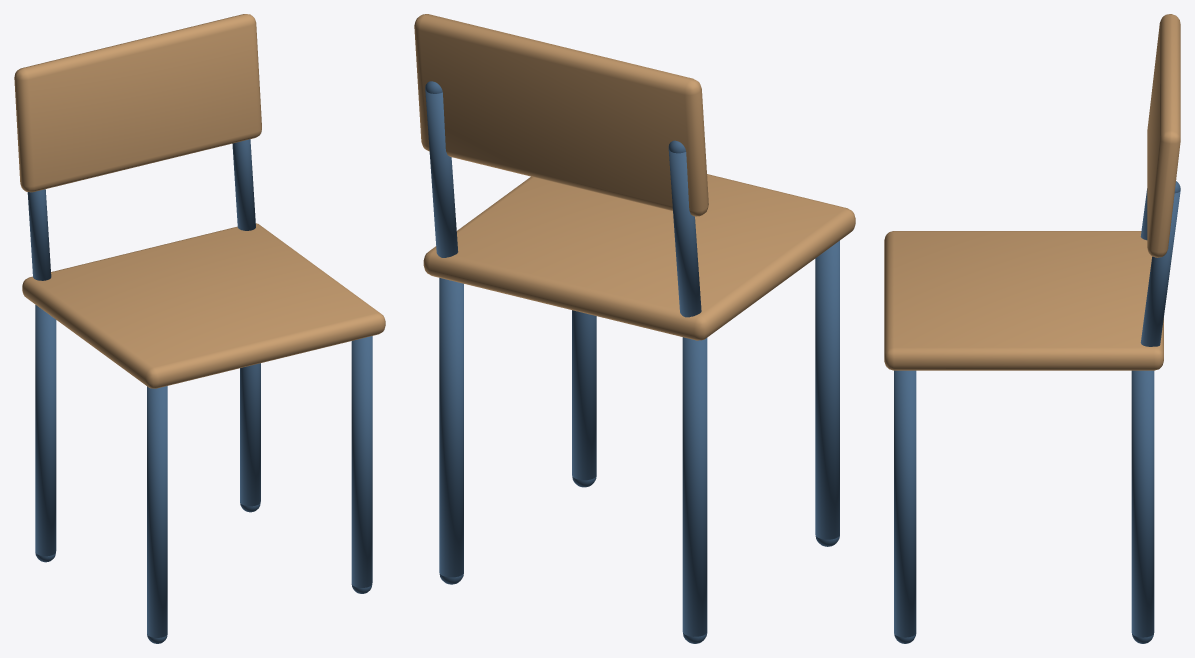
The model's file is prop_school_chair.fbx.
The picture shows the model from 3 angles, left to right: view 1: azimuth 30°, elevation 25°; view 2: azimuth 150°, elevation 25°; view 3: azimuth 270°, elevation 25°; orthographic projection. The views are drawn at different scales.
Visible parts, largest first — view 1: prop_school_chair; view 2: prop_school_chair; view 3: prop_school_chair.
Boxes of the visible parts, x1=… form: prop_school_chair: x1=14, y1=14, x2=385, y2=643; prop_school_chair: x1=414, y1=14, x2=855, y2=643; prop_school_chair: x1=884, y1=14, x2=1180, y2=643.
Size of the model in its own units: 0.42 by 0.8156 by 0.424.
